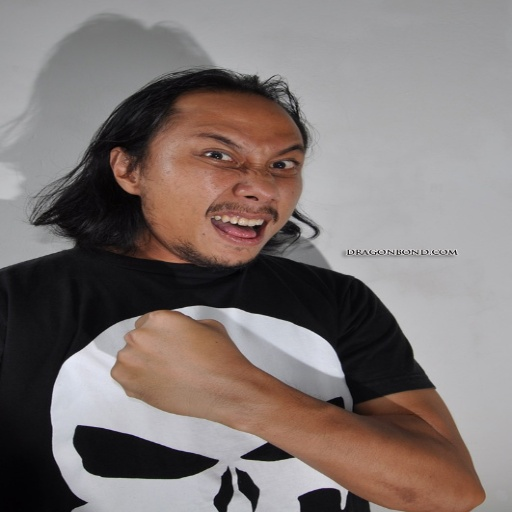hand: (77, 314, 458, 503)
